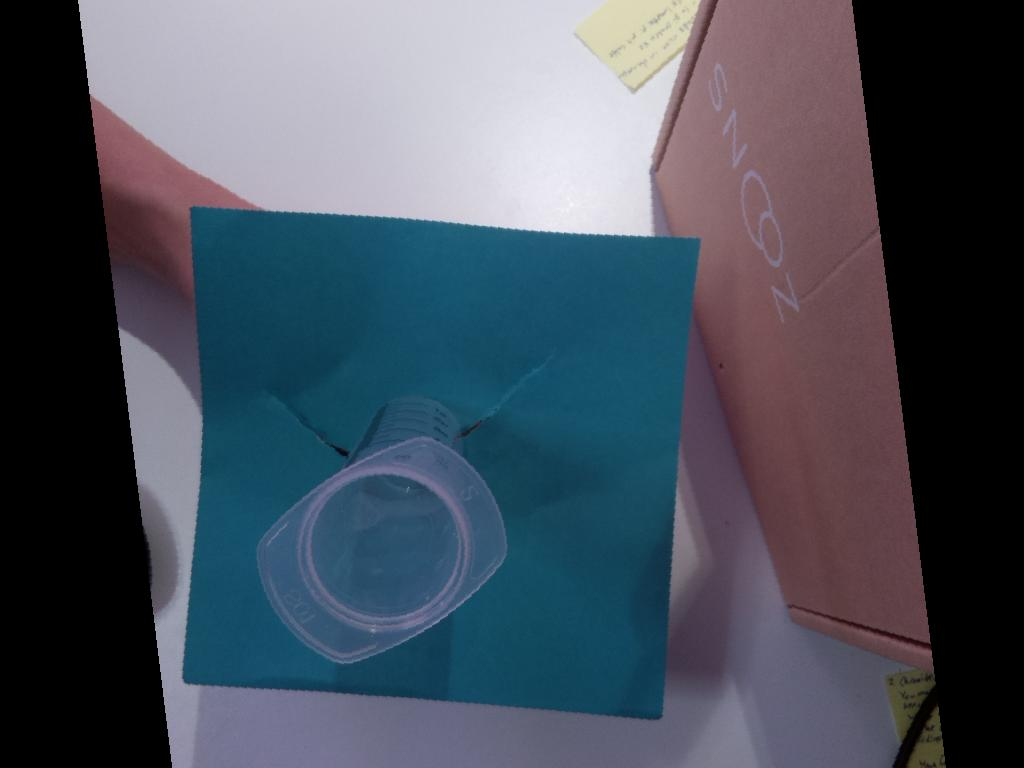clean: (251, 433, 510, 666)
